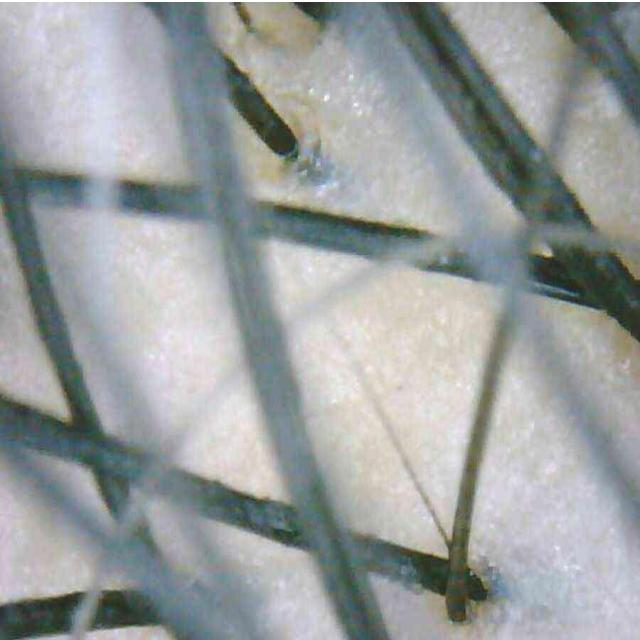o: (288, 38, 402, 123)
